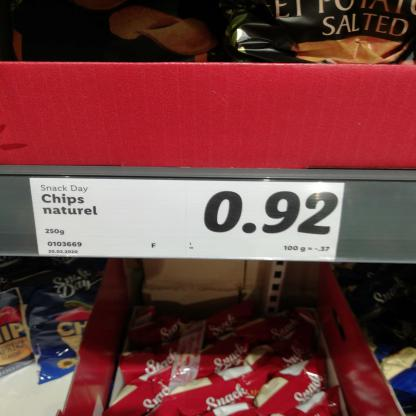prtg: (30, 179, 346, 263)
